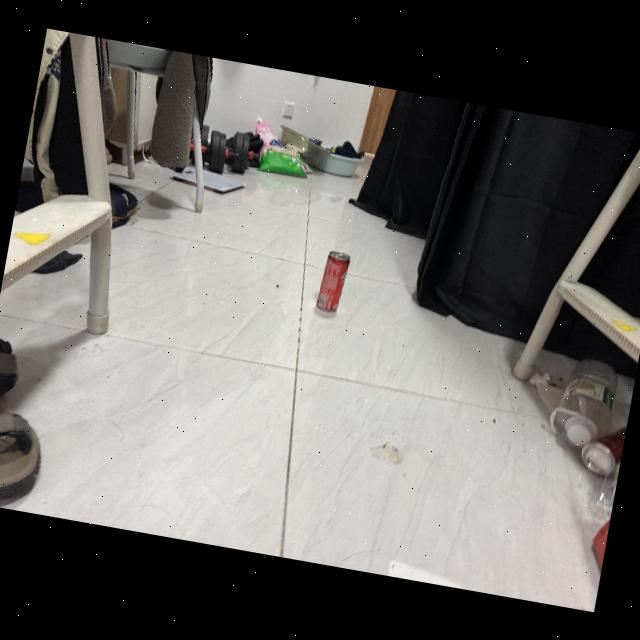Cola: (310, 244, 357, 322)
